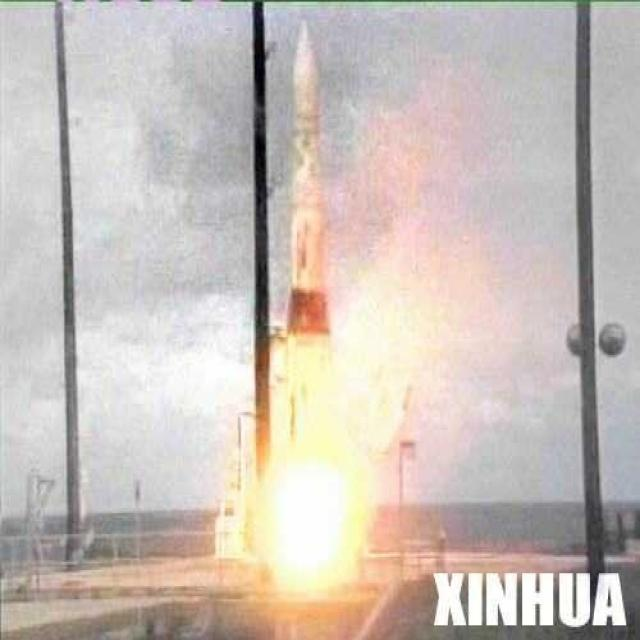missile: (274, 19, 334, 350)
